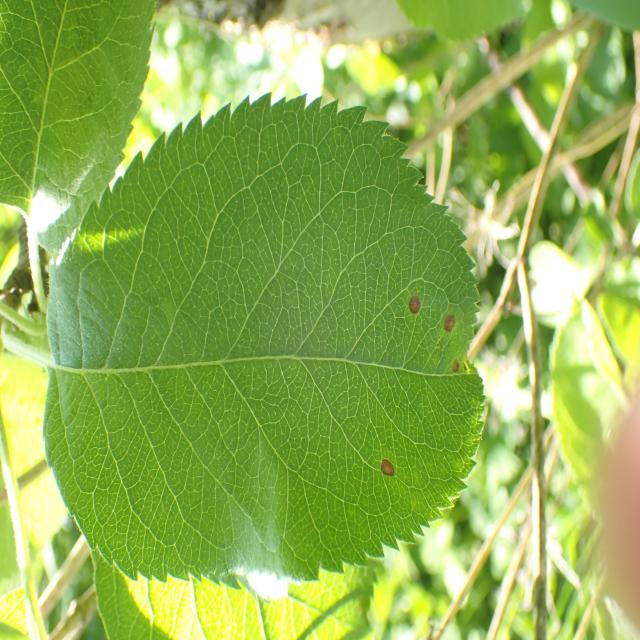Black Rot: (405, 286, 433, 346), (375, 434, 397, 502), (440, 344, 470, 393), (433, 291, 456, 343)
